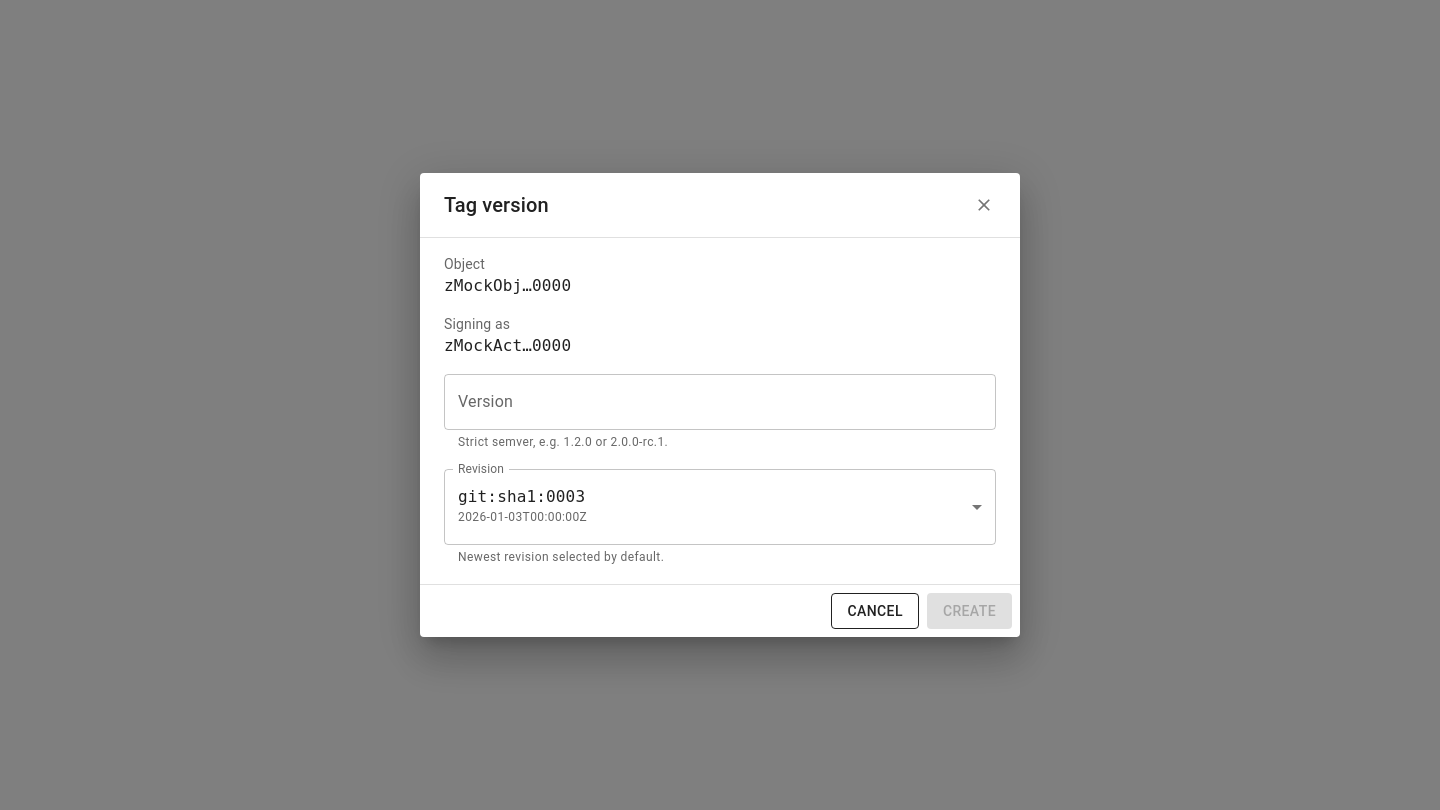
Scenario: <VersionTagDialog /> › suggests dropping a leading v
Type "v2.0.0" into the dropdown with test id "version-tag-input" at (705, 402), box [453, 383, 957, 421]
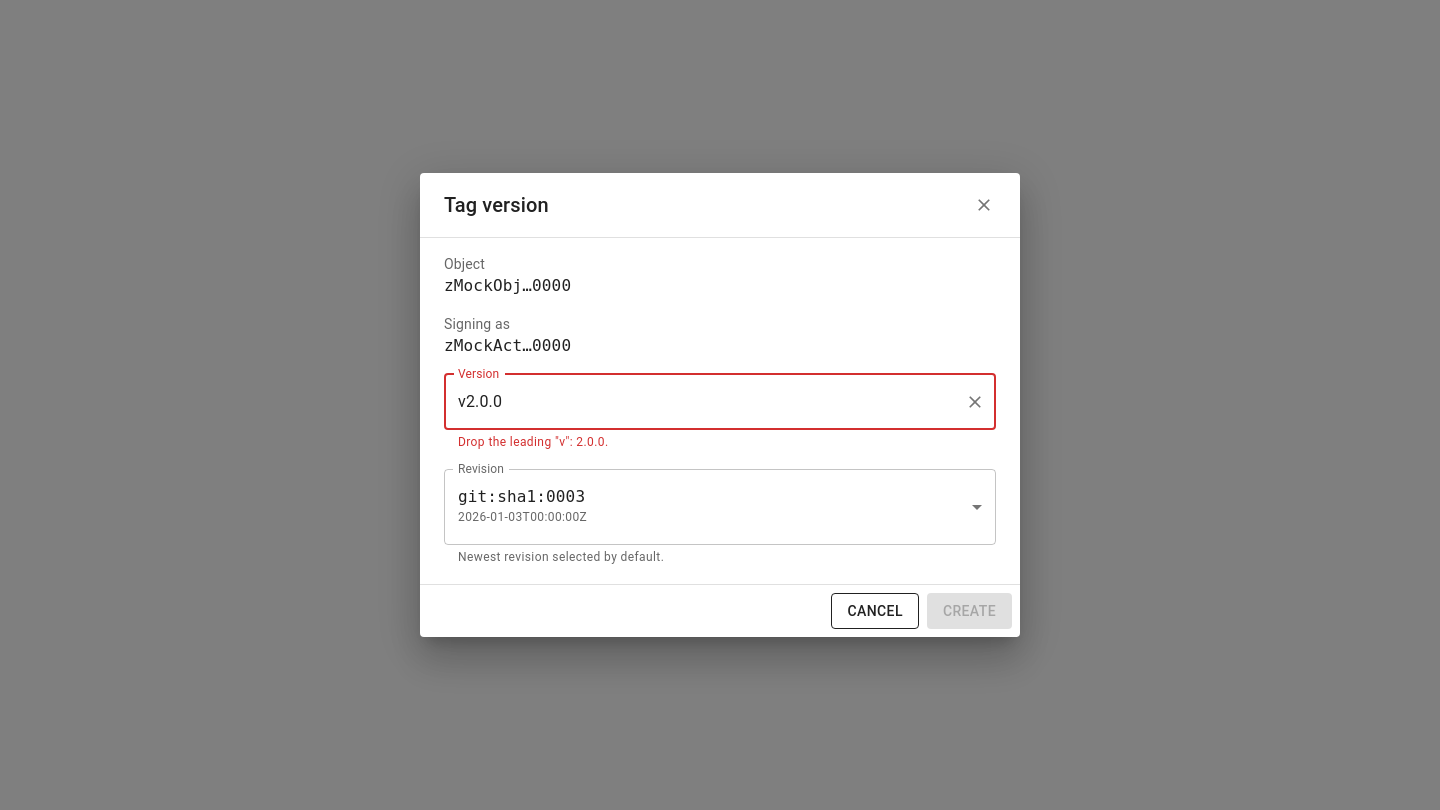
Expected: the button with test id "version-tag-submit" is disabled, [927, 593, 1012, 629]
Result: the text "Drop the leading \"v\": 2.0.0." is shown at [458, 435, 608, 449]
